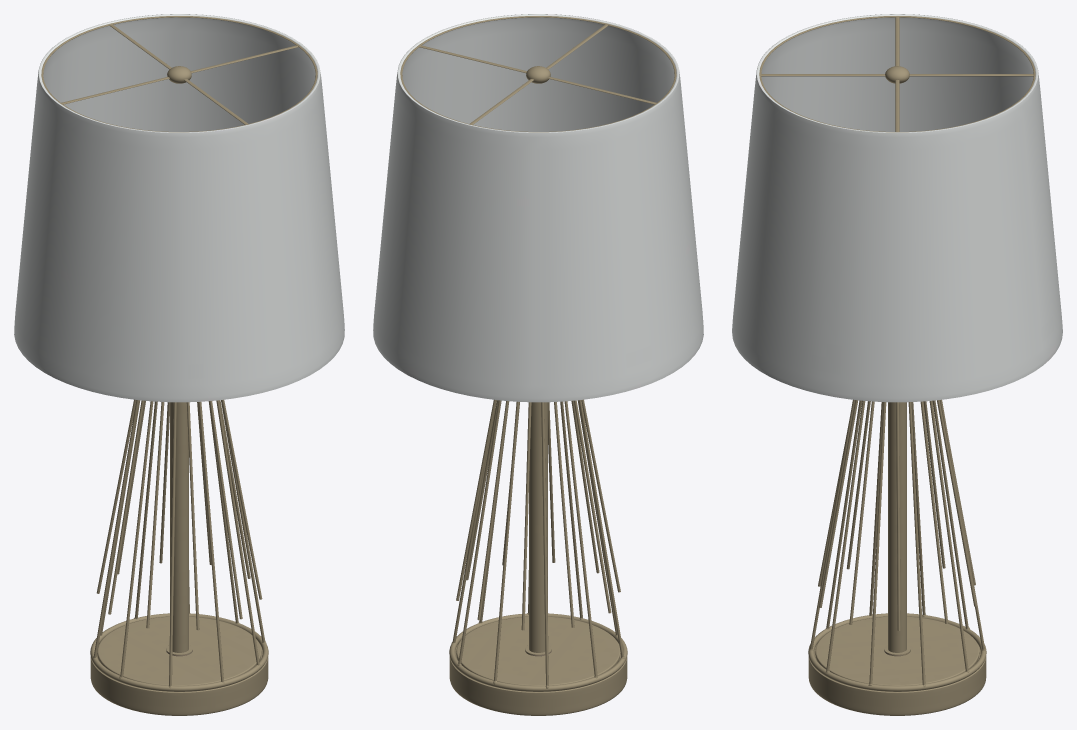
The model's file is abo-B0825CXG8H.glb.
3 renders of one model, left to right at view 1: azimuth 30°, elevation 25°; view 2: azimuth 150°, elevation 25°; view 3: azimuth 270°, elevation 25°, orthographic.
Bounding box in the file's own units: 0.303 × 0.618 × 0.303.
1 material, 1 textured.
